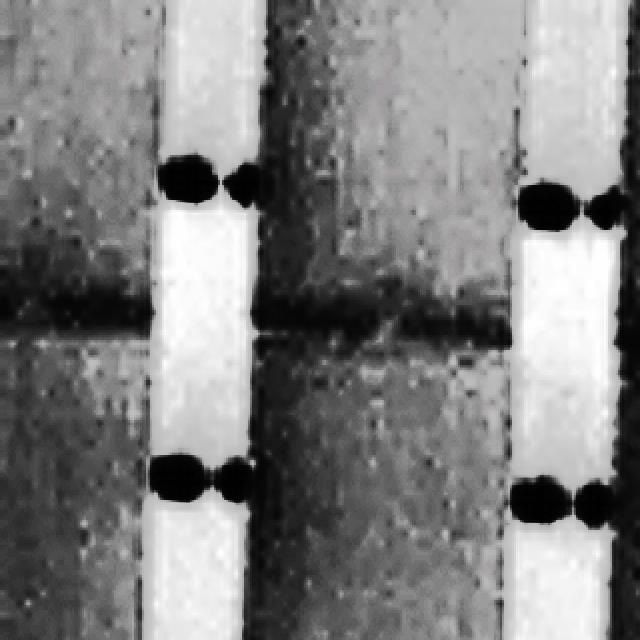PV-modules: (251, 0, 536, 330), (241, 319, 523, 640), (0, 0, 160, 315), (3, 320, 157, 640), (603, 356, 640, 640), (615, 3, 640, 354)
